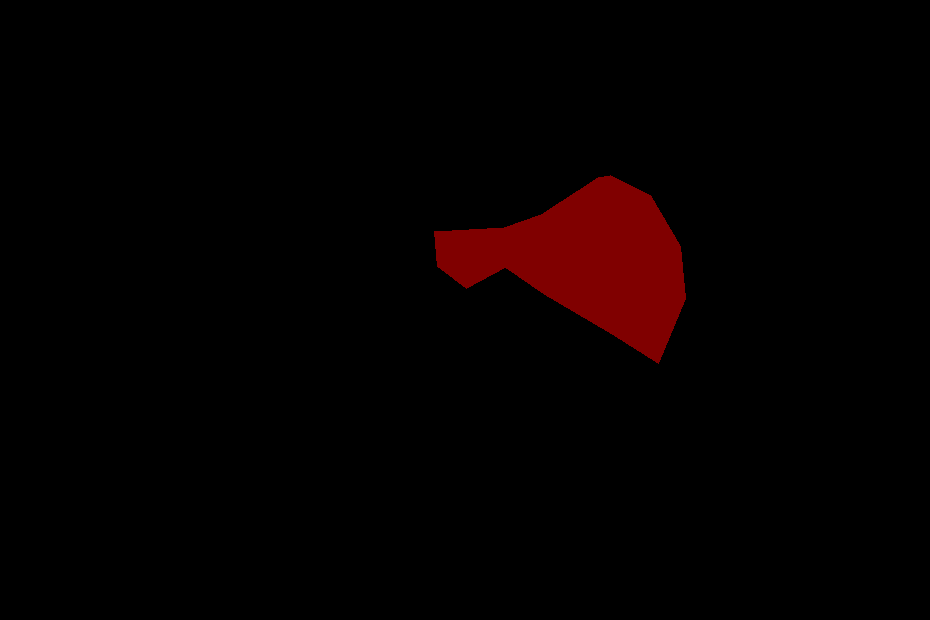fire: (434, 175, 685, 363)
